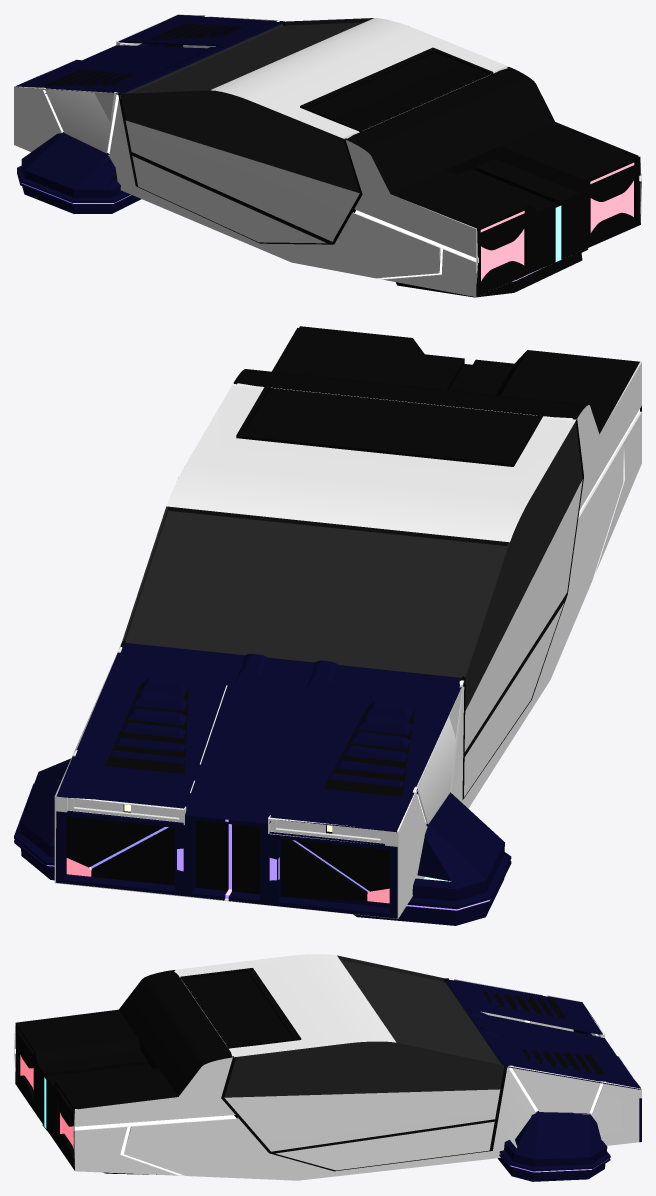
File: env-car-2.glb
3 views of the same model, one above another, from view 1: azimuth 30°, elevation 25°; view 2: azimuth 150°, elevation 25°; view 3: azimuth 270°, elevation 25° (orthographic). The views are drawn at different scales.
Visible parts, largest first — view 1: Object_17, Object_4, Object_18, Object_14, Object_24, Object_5, Object_10, Object_19, Object_21; view 2: Object_24, Object_17, Object_14, Object_5, Object_18, Object_4, Object_38, Object_19; view 3: Object_17, Object_14, Object_24, Object_4, Object_18, Object_5, Object_21, Object_19, Object_10.
Boxes of the visible parts, box(x1,y1,x2,y2) form: Object_17: box(14, 14, 641, 296); Object_4: box(391, 122, 640, 297); Object_18: box(310, 52, 554, 193); Object_14: box(119, 18, 373, 193); Object_24: box(15, 15, 283, 213); Object_5: box(44, 21, 560, 244); Object_10: box(480, 162, 634, 280); Object_19: box(300, 47, 493, 131); Object_21: box(44, 16, 640, 278); Object_24: box(14, 643, 511, 925); Object_17: box(54, 326, 641, 918); Object_14: box(122, 421, 582, 710); Object_5: box(66, 364, 583, 900); Object_18: box(233, 369, 588, 459); Object_4: box(272, 326, 641, 433); Object_38: box(56, 796, 397, 846); Object_19: box(236, 384, 543, 466); Object_17: box(14, 954, 641, 1180); Object_14: box(224, 955, 505, 1097); Object_24: box(445, 979, 641, 1181); Object_4: box(15, 1009, 177, 1174); Object_18: box(119, 970, 292, 1096); Object_5: box(44, 978, 604, 1171); Object_21: box(14, 978, 603, 1174); Object_19: box(180, 968, 301, 1048); Object_10: box(20, 1055, 73, 1148).
Size of the model in its own units: 1.59 by 0.6749 by 2.54.
